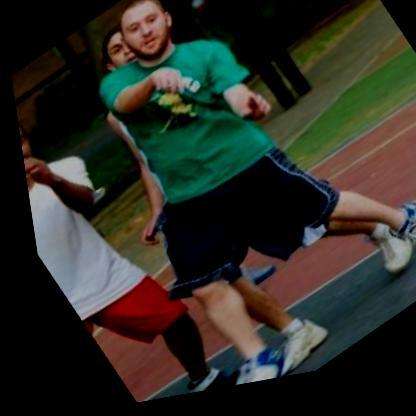basketball: (224, 0, 350, 22)
